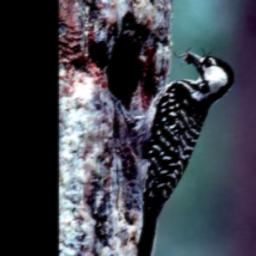Woodpecker: (122, 47, 237, 256)
